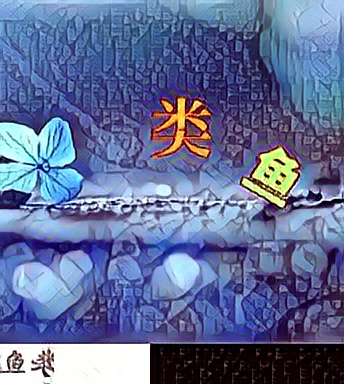C0E0: (148, 95, 210, 159)
D3E3: (239, 143, 301, 207)
